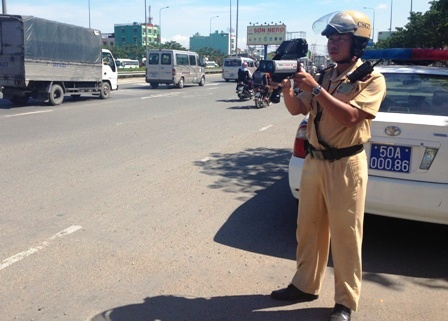police: (259, 7, 391, 319)
